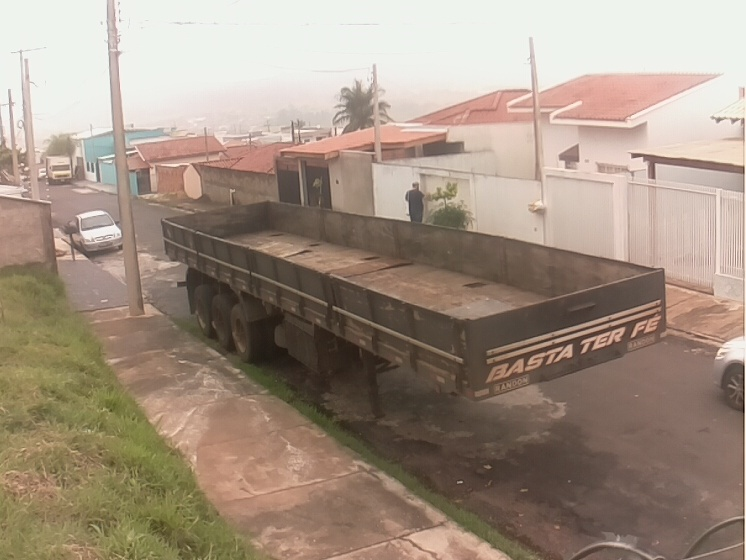person: (403, 181, 428, 225)
